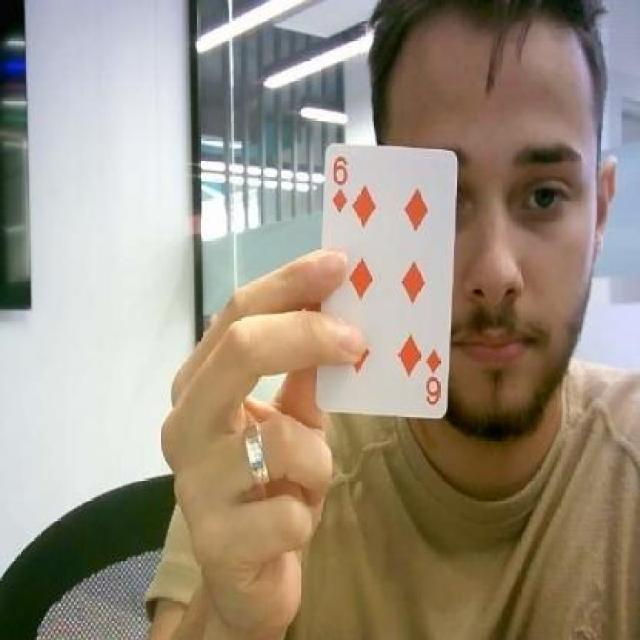6D: (422, 345, 442, 407), (330, 154, 348, 212)
